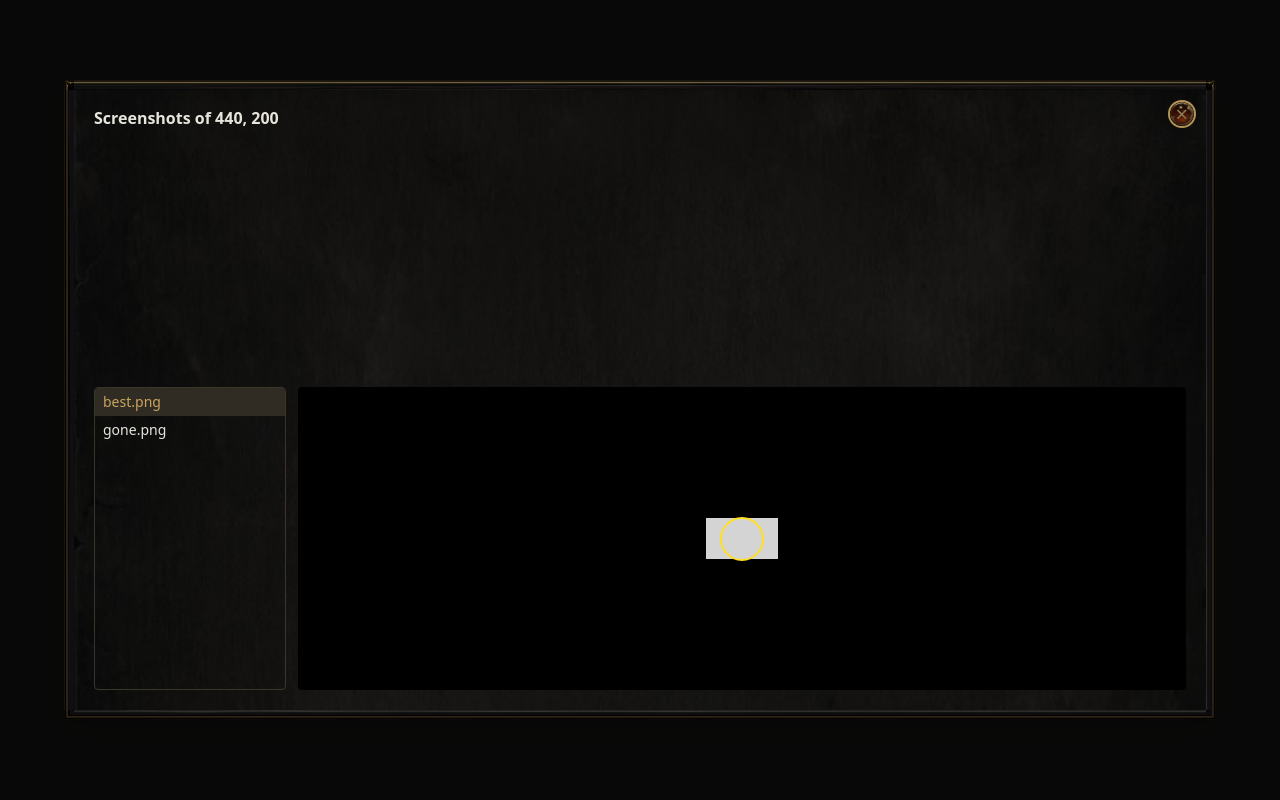
Test: SourcesDialog › shows the best screenshot first with the spot circled, and says when one is missing
This screenshot has width=1280, height=800.
Click the button "gone.png" at (190, 430), box [95, 416, 285, 444]
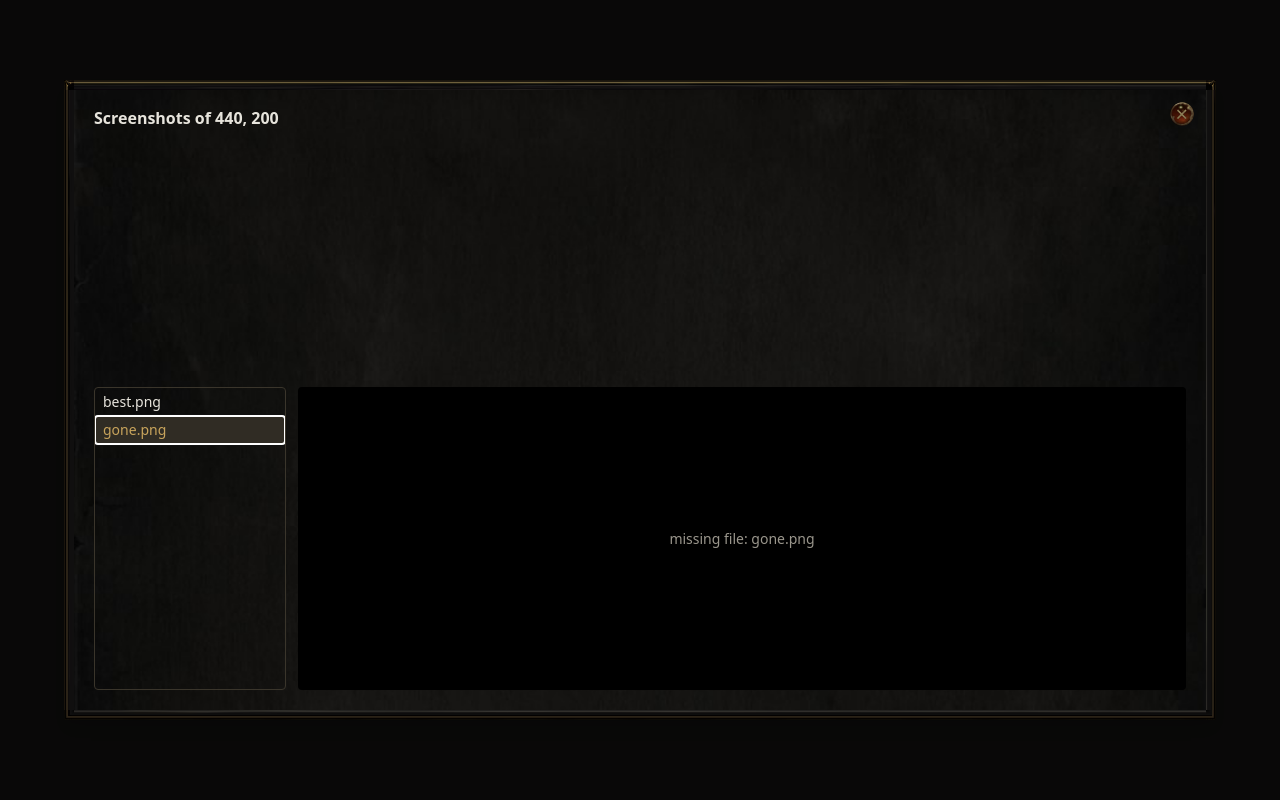
Now the text "missing file: gone.png" is shown, box [669, 528, 815, 548]
